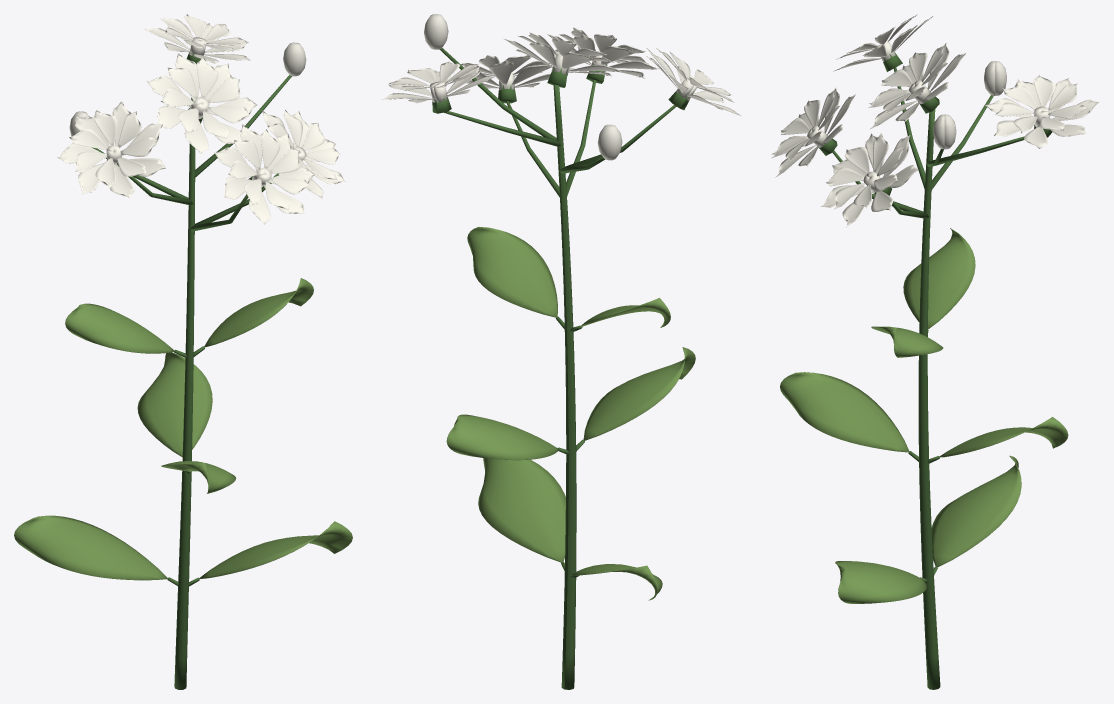
File: jasmine-epic-v2.glb
3 views of the same model, side by side, from view 1: azimuth 30°, elevation 25°; view 2: azimuth 150°, elevation 25°; view 3: azimuth 270°, elevation 25° (orthographic). The views are drawn at different scales.
Parts seen in each view (by area): view 1: jasmine-epic-v2-petal, jasmine-epic-v2-leaf, jasmine-epic-v2-stem; view 2: jasmine-epic-v2-leaf, jasmine-epic-v2-petal, jasmine-epic-v2-stem; view 3: jasmine-epic-v2-leaf, jasmine-epic-v2-petal, jasmine-epic-v2-stem.
Boxes of the visible parts, box(x1,y1,x2,y2) form: jasmine-epic-v2-petal: box(57, 14, 346, 225); jasmine-epic-v2-leaf: box(14, 278, 352, 580); jasmine-epic-v2-stem: box(92, 50, 291, 689); jasmine-epic-v2-leaf: box(446, 227, 695, 600); jasmine-epic-v2-petal: box(381, 14, 742, 160); jasmine-epic-v2-stem: box(432, 48, 690, 689); jasmine-epic-v2-leaf: box(780, 228, 1068, 603); jasmine-epic-v2-petal: box(771, 14, 1099, 227); jasmine-epic-v2-stem: box(818, 52, 1052, 689).
Bounding box in the file's own units: 0.749 × 1.64 × 0.7626.
